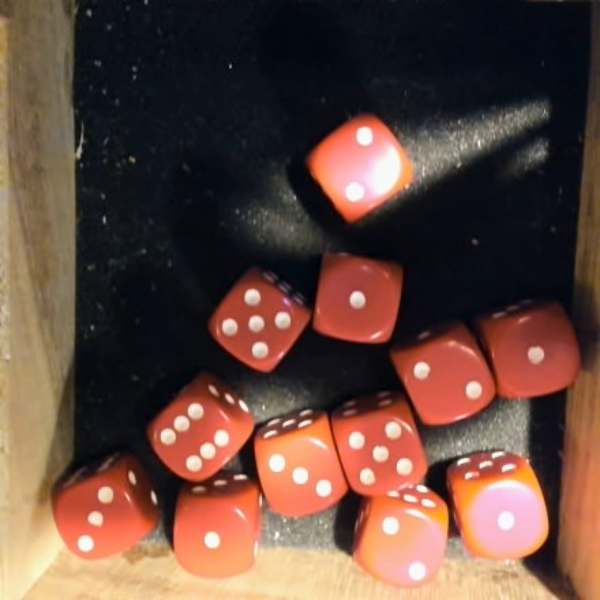red_die_pip1: (443, 439, 560, 572), (478, 290, 585, 405), (311, 247, 408, 352), (177, 473, 259, 580)
red_die_pip2: (297, 103, 425, 229), (343, 470, 461, 598), (388, 310, 500, 433)
red_die_pip3: (42, 451, 159, 570), (244, 403, 351, 526)
red_die_pip5: (320, 381, 440, 508), (198, 258, 319, 380)
red_die_pip6: (140, 368, 265, 494)
